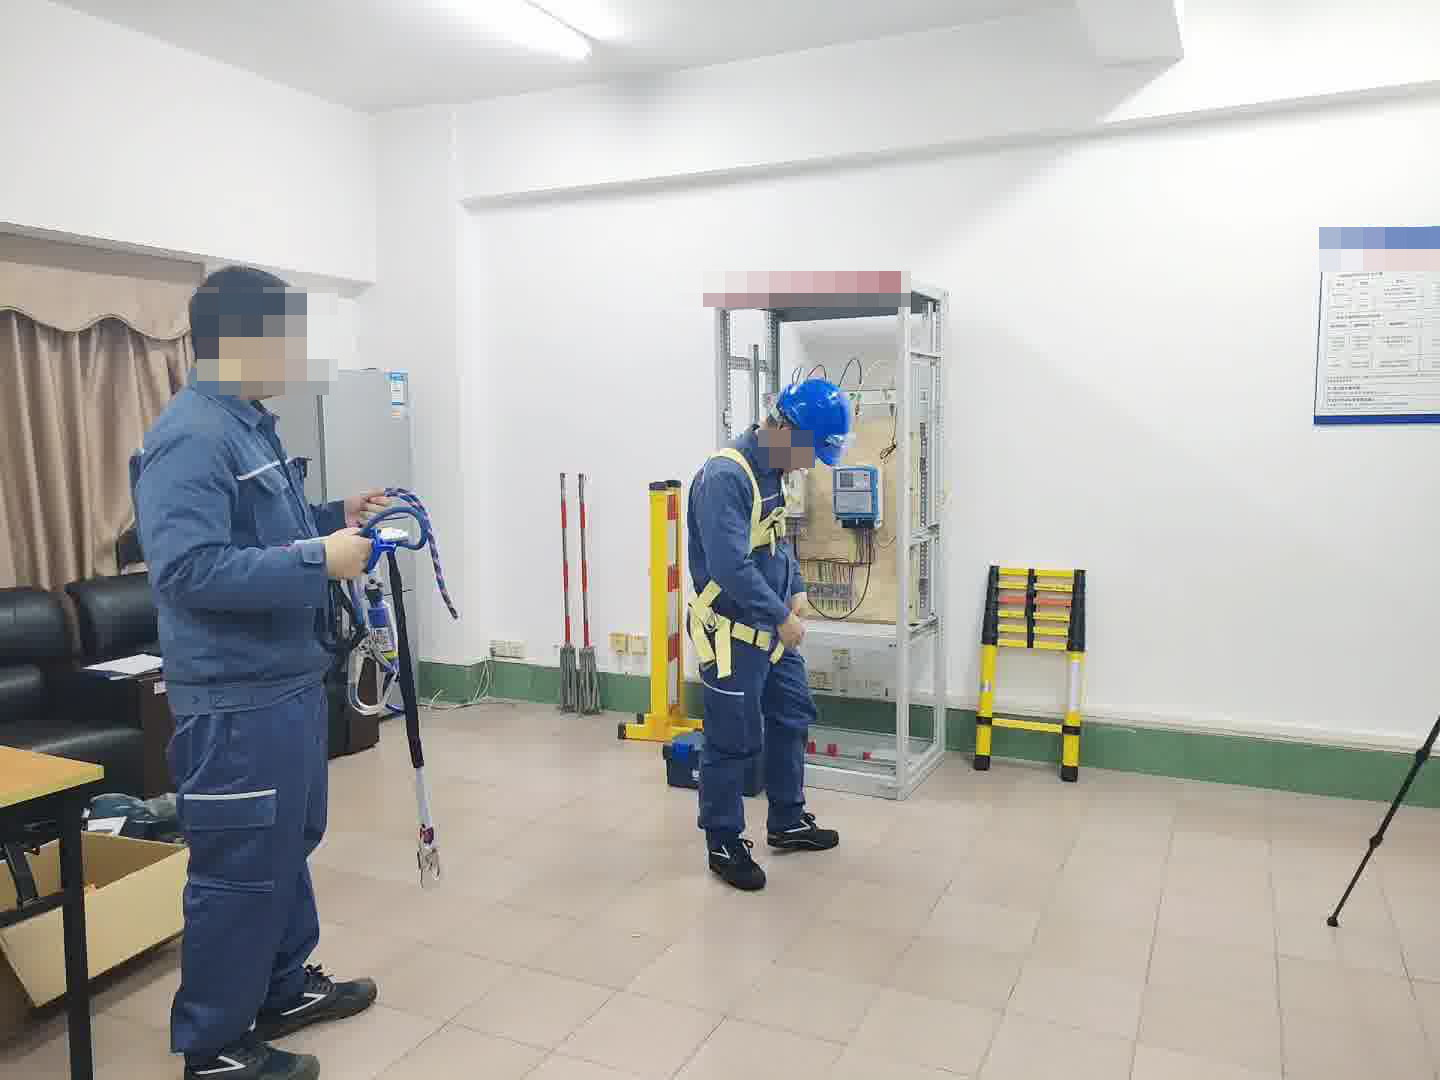downsuit: (166, 715, 337, 1058), (699, 642, 817, 839)
halt: (776, 374, 853, 471)
hand: (320, 523, 372, 577), (342, 485, 390, 528), (785, 590, 810, 632), (773, 618, 808, 645)
inear: (771, 416, 807, 457)
noear: (216, 317, 263, 365)
person: (119, 255, 393, 1080), (684, 373, 860, 883)
safebelt: (682, 440, 815, 677)
unhalt: (186, 263, 311, 402)
upsuit: (126, 375, 359, 697), (687, 441, 801, 620)
